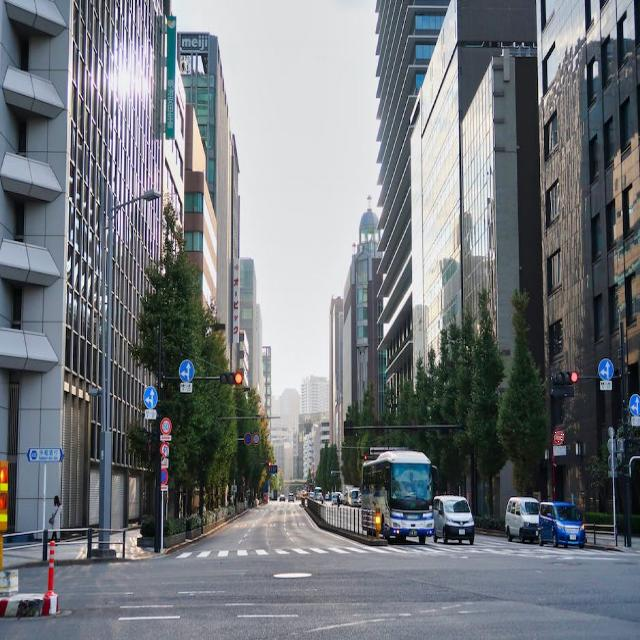no entry: (554, 431, 564, 446)
no u turn: (160, 442, 169, 457)
